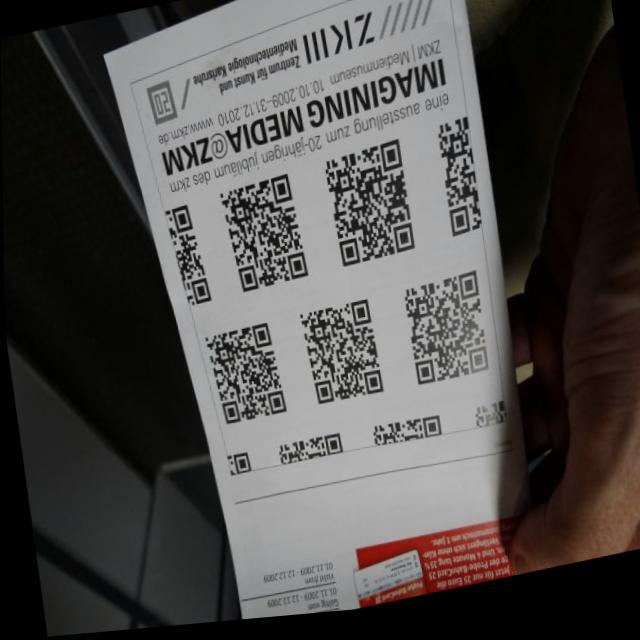qrcode: (322, 145, 414, 275), (217, 177, 308, 299), (401, 278, 488, 394), (298, 304, 381, 413), (204, 325, 285, 431), (436, 124, 482, 246), (164, 206, 211, 313), (371, 420, 440, 456), (276, 439, 341, 471), (473, 409, 504, 436), (225, 456, 250, 480)
